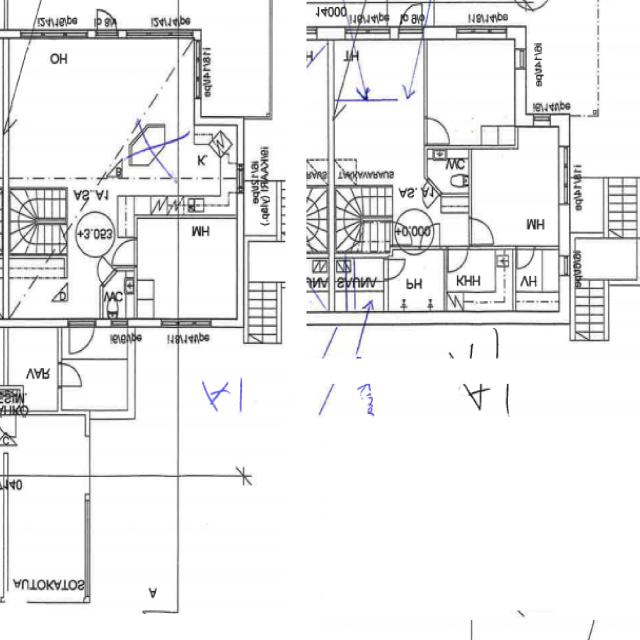door: (68, 319, 95, 358), (398, 0, 422, 40), (415, 177, 442, 209), (90, 257, 116, 287), (424, 119, 450, 144), (112, 241, 138, 265), (97, 7, 117, 38), (469, 219, 493, 244), (57, 363, 81, 386), (421, 223, 440, 249), (390, 222, 412, 244), (0, 410, 17, 438), (449, 246, 468, 271), (384, 260, 406, 280), (517, 246, 534, 268)
